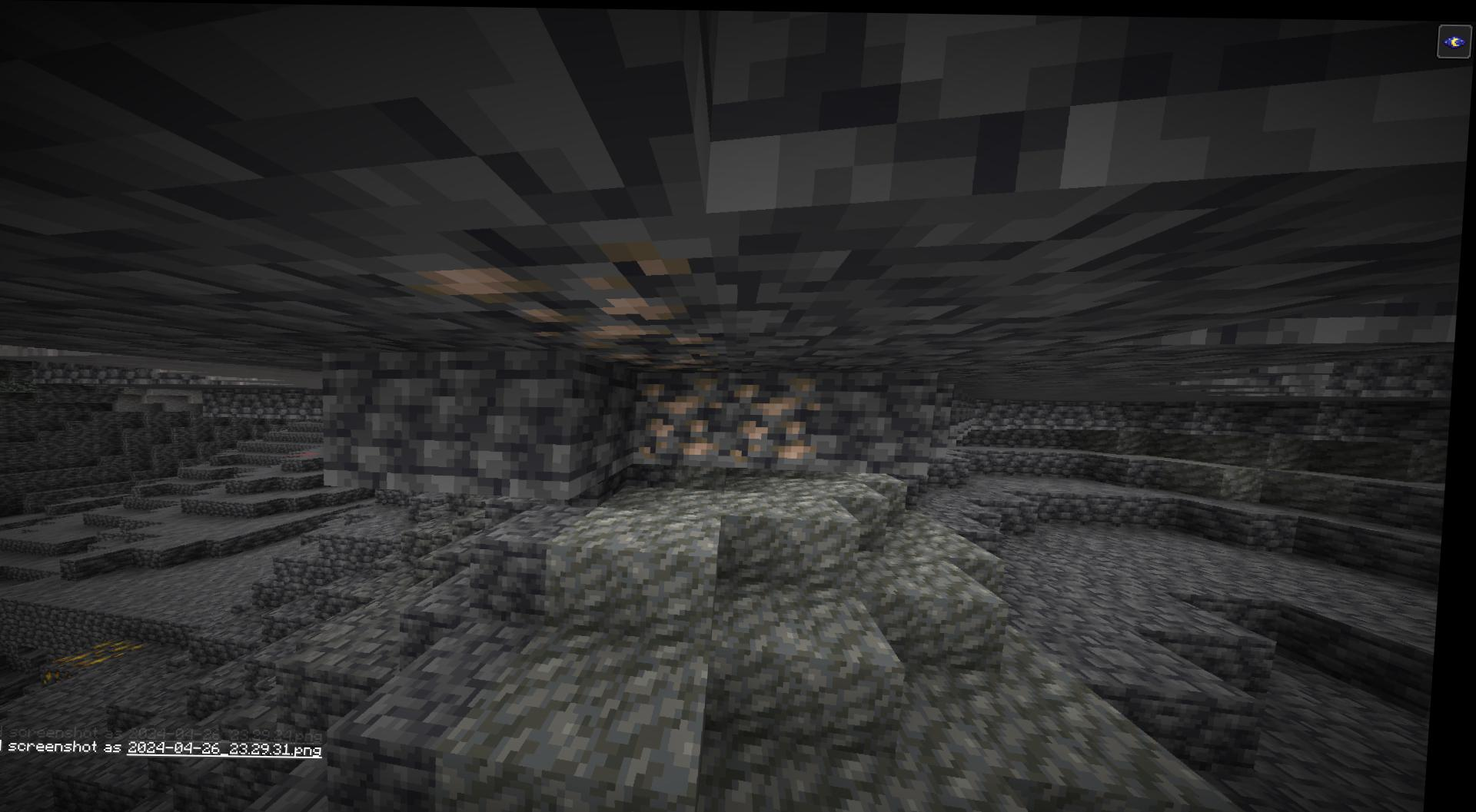gold ore: (48, 632, 154, 677)
iron ore: (422, 241, 738, 372), (629, 370, 731, 466), (731, 368, 828, 466)
